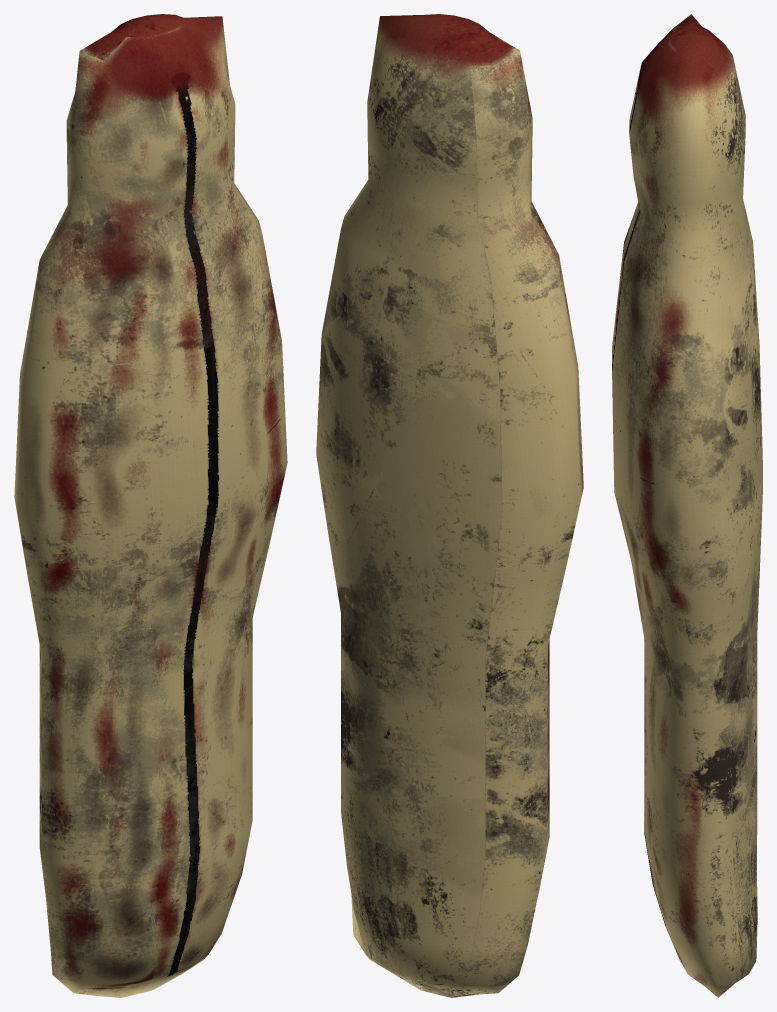
Rendered from BodyBag.FBX.
The picture shows the model from 3 angles, left to right: view 1: azimuth 30°, elevation 25°; view 2: azimuth 150°, elevation 25°; view 3: azimuth 270°, elevation 25°; orthographic projection. The views are drawn at different scales.
Visible parts, largest first — view 1: Cadaver; view 2: Cadaver; view 3: Cadaver.
Boxes of the visible parts, x1,y1,x2,y2 form: Cadaver: [14, 14, 287, 997]; Cadaver: [316, 14, 583, 997]; Cadaver: [612, 14, 762, 997].
Bounding box in the file's own units: 48.6 × 172 × 24.71.
Materials: 1 (1 with a texture image).
